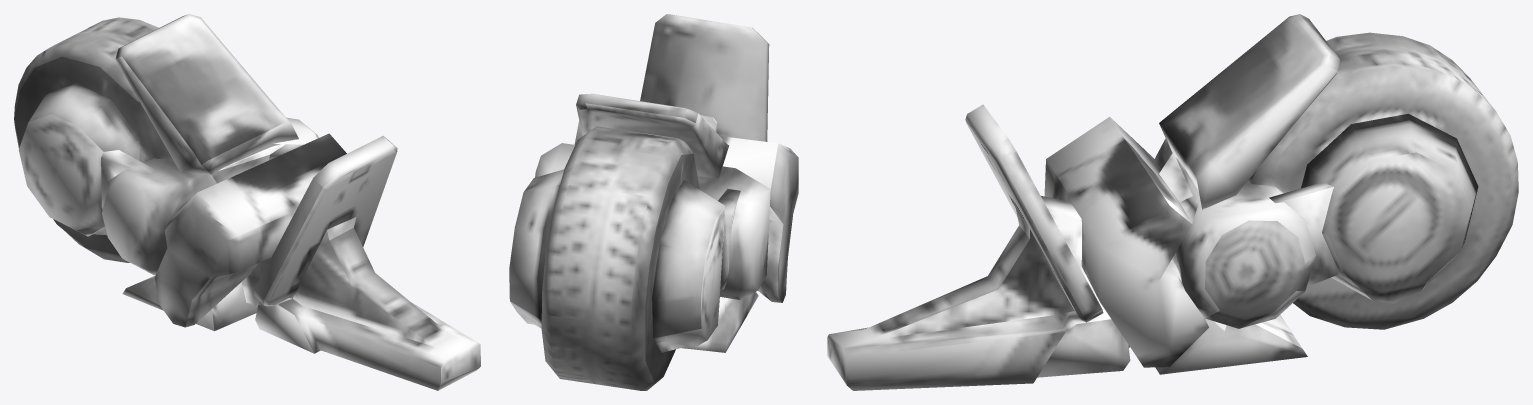
The model's file is l_foot.glb.
The picture shows the model from 3 angles, left to right: view 1: azimuth 30°, elevation 25°; view 2: azimuth 150°, elevation 25°; view 3: azimuth 270°, elevation 25°; orthographic projection. The views are drawn at different scales.
Visible parts, largest first — view 1: l_foot; view 2: l_foot; view 3: l_foot.
Boxes of the visible parts, bbox=[...] form: l_foot: bbox=[14, 14, 480, 390]; l_foot: bbox=[509, 14, 798, 390]; l_foot: bbox=[827, 14, 1518, 390].
Bounding box in the file's own units: 1.8 × 1.78 × 3.9.
Materials: 3 (3 with a texture image).
